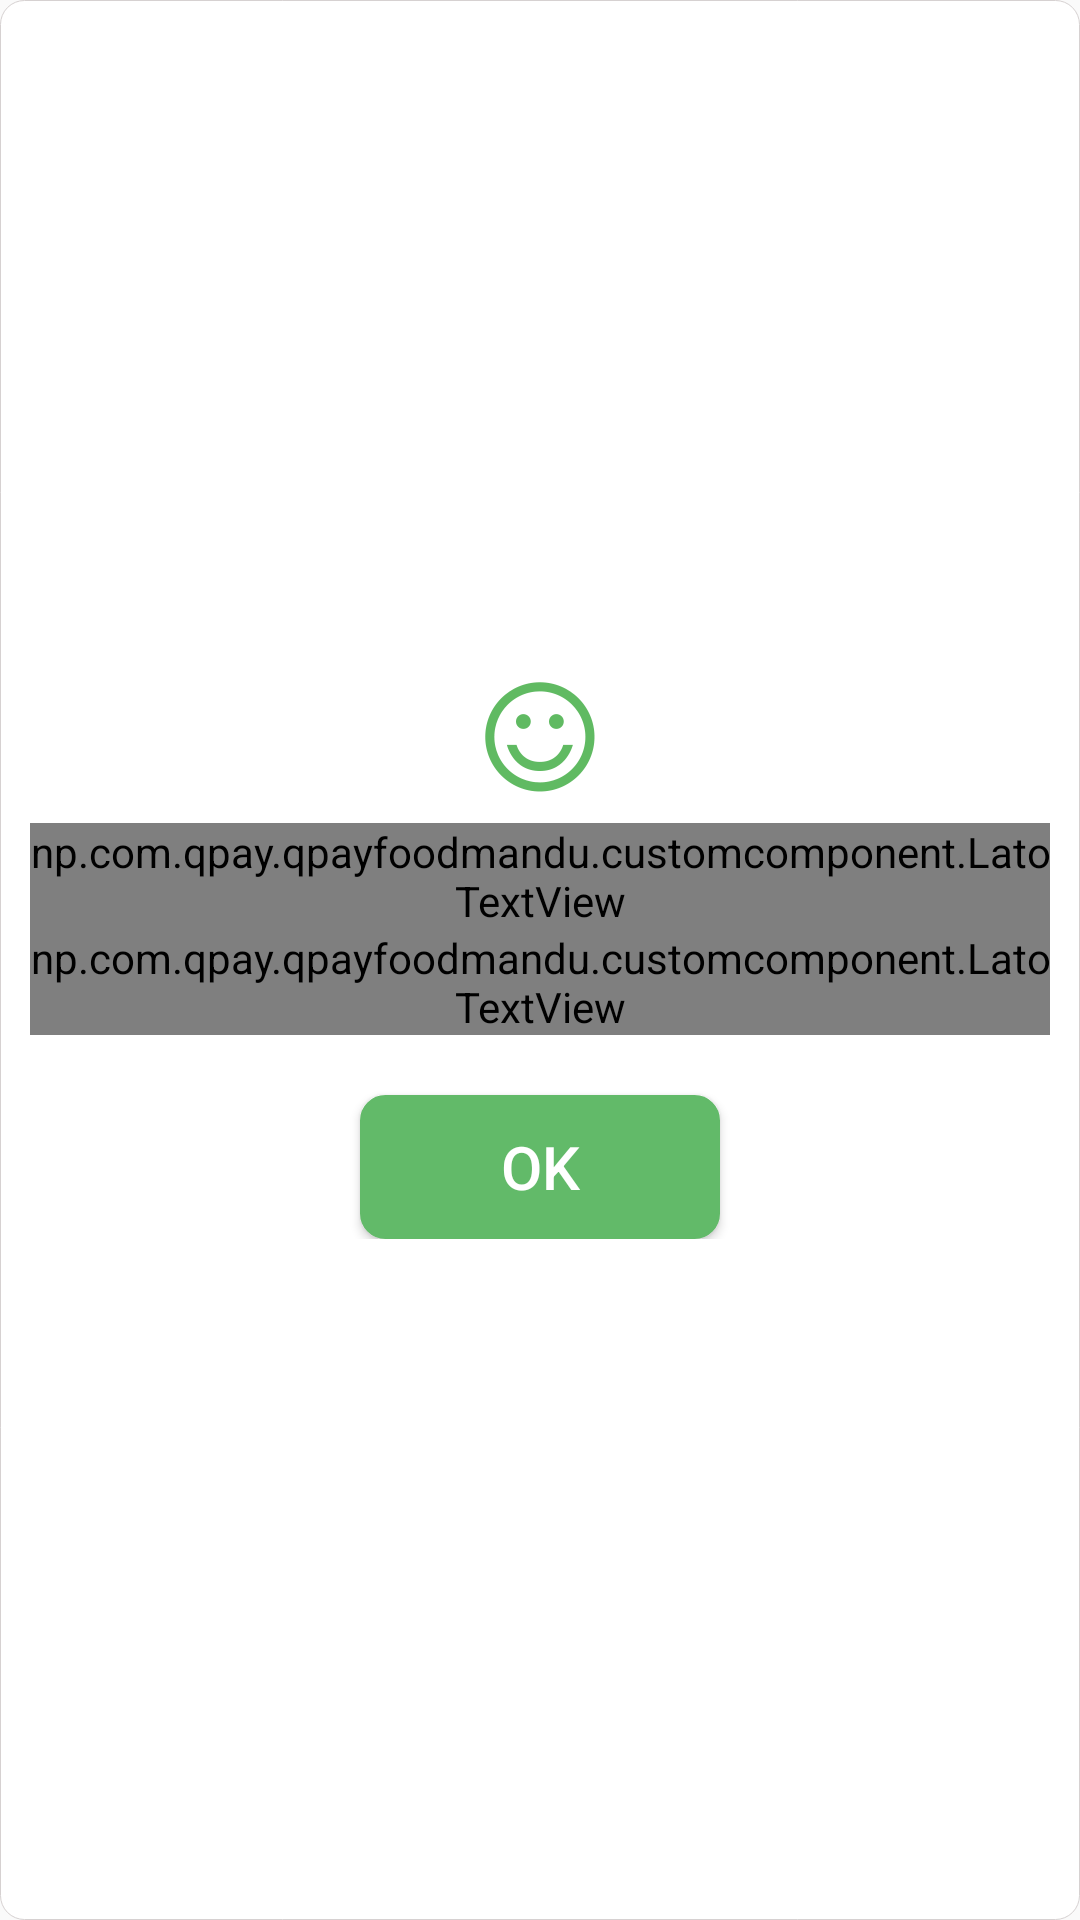

Where icons sit on this 1080×1920 app screen, as bbox=[x1, y1, x2, y2]:
happy: bbox=[485, 682, 595, 792]
